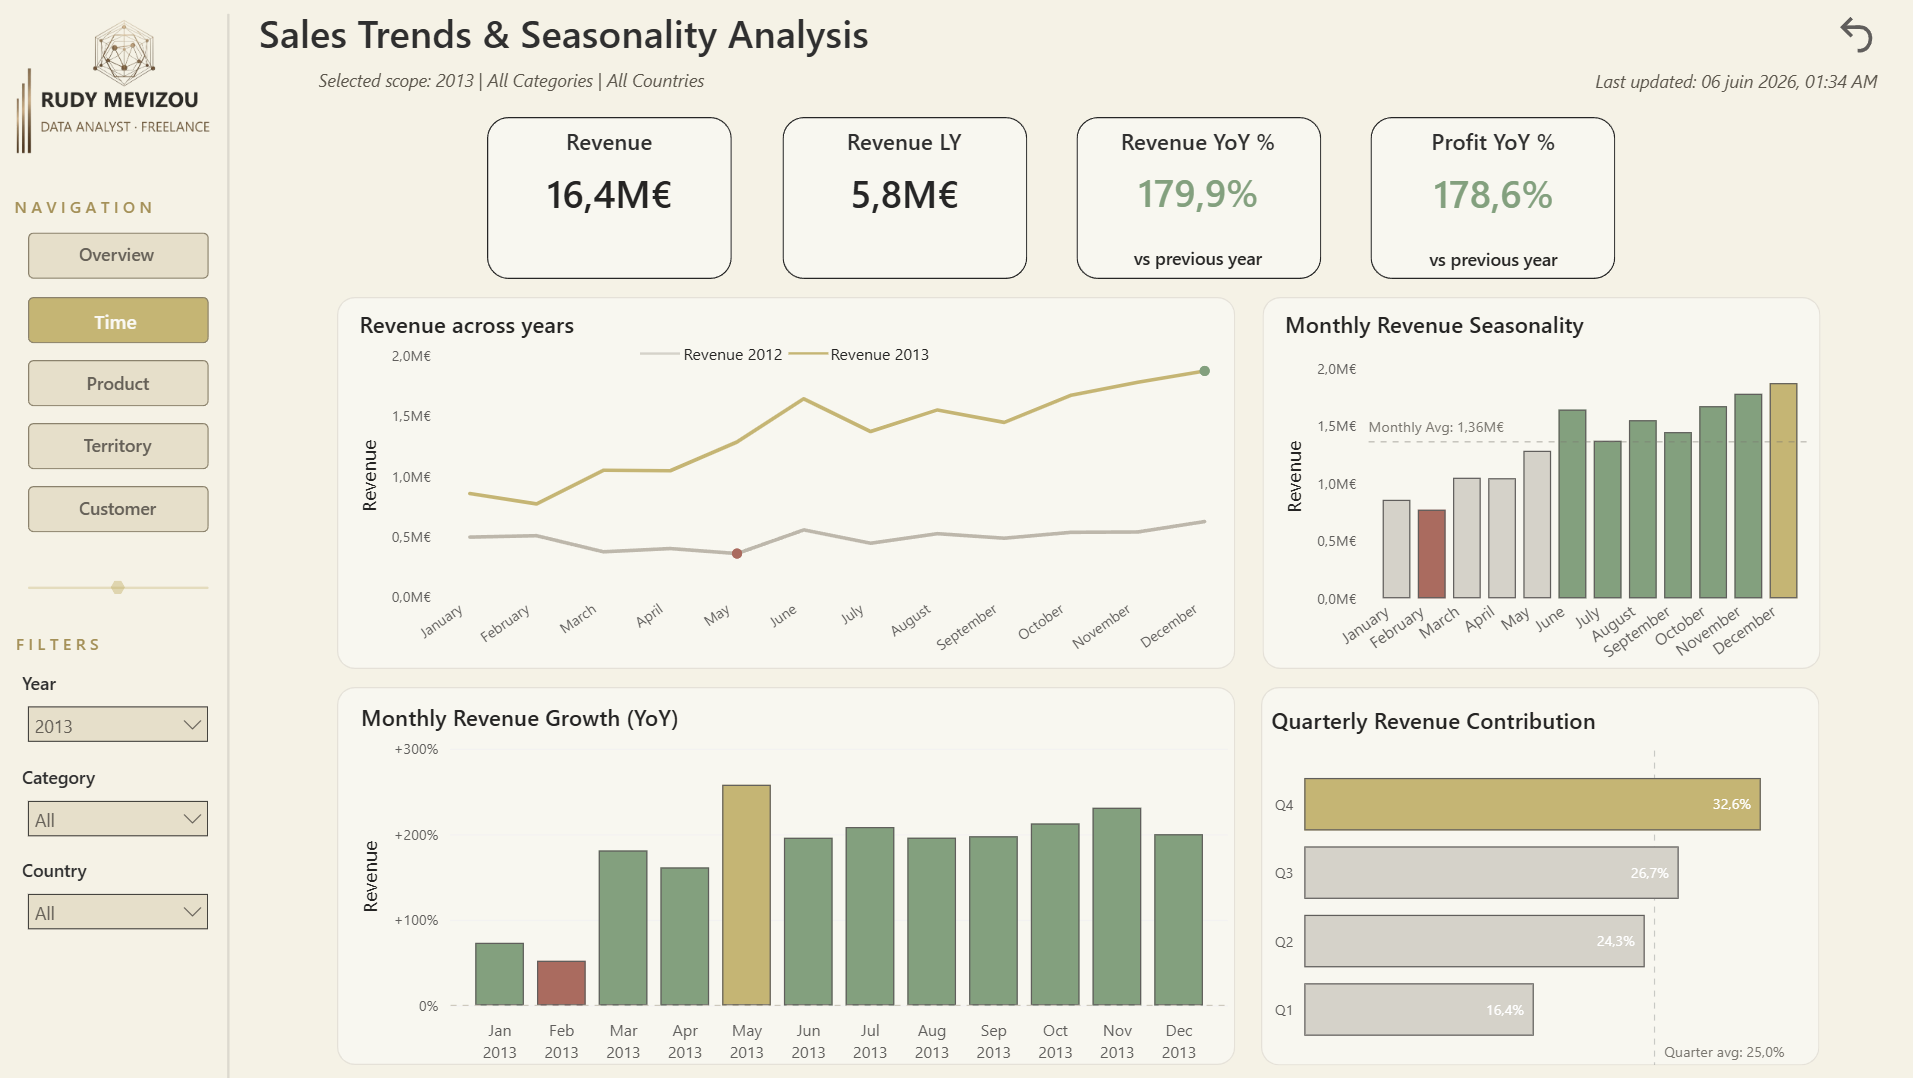

Layout of this report page (visuals, bound fields, positions):
{"tool":"powerbi","page":{"name":"Sales Trends & Seasonality Analysis","canvas":[1600,900],"ordinal":1},"visuals":[{"type":"textbox","box":[213.3,0,600,56.2],"z":0,"group":"g25"},{"type":"shape","box":[181.4,11.4,21.4,888.6],"z":0,"group":"g24"},{"type":"shape","box":[408,98,204,135],"z":0,"group":"g18"},{"type":"shape","box":[654,98,204,135],"z":0,"group":"g14"},{"type":"shape","box":[899,98,204,135],"z":0,"group":"g5"},{"type":"group","id":"g1","title":"KPI YoY","box":[1144,98,204,135],"z":0,"group":"g22"},{"type":"shape","box":[1144,98,204,135],"z":0,"group":"g1"},{"type":"card","title":"Revenue YoY %","fields":{"Values":["Mesures.Revenue YoY Display"]},"box":[927.2,105,145.1,86.3],"z":0,"group":"g6"},{"type":"card","title":"Profit YoY %","fields":{"Values":["Mesures.Profit YoY Display"]},"box":[1176.1,105.1,139.9,86.6],"z":0,"group":"g8"},{"type":"shape","box":[25,193.6,150.6,38.6],"z":0,"group":"g23"},{"type":"card","fields":{"Values":["Mesures.Revenue LY Status"]},"box":[685.7,202.9,144.3,30],"z":0,"group":"g7"},{"type":"shape","box":[25.3,247.1,150.6,38.6],"z":0,"group":"g20"},{"type":"shape","box":[282,247.5,748.6,310],"z":0,"group":"g21"},{"type":"shape","box":[534,276,33.5,36.8],"z":0,"group":"g12"},{"type":"shape","box":[25.5,299.1,150.6,38.6],"z":0,"group":"g15"},{"type":"shape","box":[25.5,351.8,150.6,38.6],"z":0,"group":"g10"},{"type":"group","id":"g2","title":"Customer button","box":[25.4,404.6,150.6,38.6],"z":0,"group":"g19"},{"type":"shape","box":[25.4,404.6,150.6,38.6],"z":0,"group":"g2"},{"type":"shape","box":[25,483.6,150.5,12.2],"z":0,"group":"g11"},{"type":"shape","box":[282.9,572,748.6,315],"z":0,"group":"g4"},{"type":"group","id":"g3","title":"Quarterly contribution","box":[1053,572,465.3,320],"z":0,"group":"g13"},{"type":"shape","box":[1053,572,465.3,315.3],"z":0,"group":"g3"},{"type":"slicer","title":"Country","fields":{"Values":["Territory.Country"]},"box":[16,714.6,170,62],"z":0,"group":"g16"},{"type":"shape","box":[1053,247.5,465,310],"z":250,"group":"g9"},{"type":"columnChart","title":"Monthly Revenue Seasonality","fields":{"Y":["Mesures.Average Revenue by Month"],"Category":["Date.MonthName"]},"box":[1066.8,256.9,448.8,313.8],"z":500,"group":"g9"},{"type":"group","id":"g4","title":"Revenue growth","box":[282.9,572,748.6,320.1],"z":500,"group":"g13"},{"type":"card","fields":{"Values":["Mesures.Last Updated"]},"box":[1321.2,56.2,253.8,27],"z":1000,"group":"g25"},{"type":"group","id":"g5","title":"KPI YoY","box":[899,98,204,135],"z":1000,"group":"g22"},{"type":"group","id":"g6","title":"Groupe 6","box":[927.2,105,145.1,127.8],"z":1000,"group":"g5"},{"type":"card","title":"Revenue","fields":{"Values":["Mesures.Revenue"]},"box":[435.7,105.1,148.6,86.6],"z":1000,"group":"g18"},{"type":"group","id":"g7","title":"Groupe 9","box":[685.7,105.1,144.3,127.8],"z":1000,"group":"g14"},{"type":"card","title":"Revenue LY","fields":{"Values":["Mesures.Revenue LY Display - KPI"]},"box":[685.9,105.1,140.2,87],"z":1000,"group":"g7"},{"type":"group","id":"g8","title":"Groupe 3","box":[1174,105.1,144,127.9],"z":1000,"group":"g1"},{"type":"textbox","box":[63,195.6,83.2,34.6],"z":1000,"group":"g23"},{"type":"card","fields":{"Values":["Mesures.Revenue YoY Status"]},"box":[927.7,202.7,144,30.1],"z":1000,"group":"g6"},{"type":"card","fields":{"Values":["Mesures.Profit YoY Status"]},"box":[1174,202.8,144,30.2],"z":1000,"group":"g8"},{"type":"group","id":"g9","title":"Monthly seasonality","box":[1053,247.5,465,323.2],"z":1000,"group":"g17"},{"type":"textbox","box":[75,250.4,51.2,32],"z":1000,"group":"g20"},{"type":"lineChart","title":"Revenue across years","fields":{"Category":["Date.MonthName"],"Y":["Mesures.Revenue 2012","Mesures.Revenue 2012 Min","Mesures.Revenue 2013","Mesures.Revenue 2013 Max"]},"box":[295.8,256.9,736.2,307.5],"z":1000,"group":"g21"},{"type":"shape","box":[658.2,276.5,33.2,36.5],"z":1000,"group":"g12"},{"type":"textbox","box":[68.8,302.3,63.9,32.2],"z":1000,"group":"g15"},{"type":"group","id":"g10","title":"Territory button","box":[25.5,351.8,150.6,38.6],"z":1000,"group":"g19"},{"type":"textbox","box":[67.3,354.8,67,32.6],"z":1000,"group":"g10"},{"type":"textbox","box":[62.6,406.5,76.2,32.5],"z":1000,"group":"g2"},{"type":"group","id":"g11","title":"Separator Line","box":[25,483.6,150.5,12.2],"z":1000,"group":"g24"},{"type":"shape","box":[94.1,483.6,12.2,11.3],"z":1000,"group":"g11"},{"type":"columnChart","title":"Monthly Revenue Growth (YoY)","fields":{"Category":["Date.Month Year"],"Y":["Mesures.Revenue YoY %"]},"box":[298.1,584.6,732.5,307.5],"z":1000,"group":"g4"},{"type":"clusteredBarChart","title":"Quarterly Revenue Contribution","fields":{"Category":["Date.QuarterLabel"],"Y":["Mesures.Revenue Share Quarter"]},"box":[1056.7,587,456.2,305],"z":1000,"group":"g3"},{"type":"slicer","title":"Category","fields":{"Values":["Product.ProductCategory"]},"box":[16,637.2,170,62],"z":1000,"group":"g16"},{"type":"group","id":"g12","title":"Legend","box":[534,276,246.9,42],"z":1500,"group":"g21"},{"type":"group","id":"g13","title":"05 - Growth & Quarterly","box":[282.9,572,1235.5,320.1],"z":1750},{"type":"group","id":"g14","title":"KPI Revenue LY","box":[654,98,204,135],"z":2000,"group":"g22"},{"type":"textbox","box":[688.2,279.1,92.6,38.8],"z":2000,"group":"g12"},{"type":"group","id":"g15","title":"Product button","box":[25.5,299.1,150.6,38.6],"z":2000,"group":"g19"},{"type":"group","id":"g16","title":"Filters label","box":[10.5,520.8,175.5,255.8],"z":2000,"group":"g24"},{"type":"slicer","title":"Year","fields":{"Values":["Date.CalendarYear Hiérarchie.CalendarYear"]},"box":[16,558.1,170,62],"z":2000,"group":"g16"},{"type":"group","id":"g17","title":"04 - Trend & Seasonality","box":[282,247.5,1236,323.2],"z":2250},{"type":"actionButton","box":[1528.7,8.8,50,40],"z":3000,"group":"g25"},{"type":"group","id":"g18","title":"KPI Revenue","box":[408,98,204,135],"z":3000,"group":"g22"},{"type":"group","id":"g19","title":"Navigation label","box":[8.9,156.9,167.2,286.2],"z":3000,"group":"g24"},{"type":"group","id":"g20","title":"Time button","box":[25.3,247.1,150.6,38.6],"z":3000,"group":"g19"},{"type":"group","id":"g21","title":"Revenue trend","box":[282,247.5,750,316.9],"z":3000,"group":"g17"},{"type":"textbox","box":[565.2,279.2,94.1,38.5],"z":3000,"group":"g12"},{"type":"textbox","title":"Filters text","box":[10.5,520.8,136.4,36.4],"z":3000,"group":"g16"},{"type":"image","title":"Logo","box":[0,7.1,201.7,136.7],"z":4000,"group":"g24"},{"type":"card","fields":{"Values":["Mesures.Selection Summary"]},"box":[213,55,430,28.2],"z":4000,"group":"g25"},{"type":"group","id":"g22","title":"03 - KPI","box":[408,98,940,135],"z":4000},{"type":"group","id":"g23","title":"Overview button","box":[25,193.6,150.6,38.6],"z":4000,"group":"g19"},{"type":"group","id":"g24","title":"02 - Sidebar","box":[0,7.1,202.9,892.9],"z":5000},{"type":"textbox","title":"Navigation text","box":[8.9,156.9,145.6,36],"z":5000,"group":"g19"},{"type":"group","id":"g25","title":"01 - Header","box":[213,0,1365.7,83.2],"z":6000}]}

Visuals, with their boxes in screenshot pixels (x1, y1, x2, y2), scaled from the page's 1600x900 canvas onto the 1913x1078 screenshot:
textbox: bbox=(255, 0, 972, 67)
shape: bbox=(217, 14, 242, 1077)
shape: bbox=(488, 117, 732, 279)
shape: bbox=(782, 117, 1026, 279)
shape: bbox=(1075, 117, 1319, 279)
"KPI YoY" group: bbox=(1368, 117, 1612, 279)
shape: bbox=(1368, 117, 1612, 279)
"Revenue YoY %" card: bbox=(1109, 126, 1282, 229)
"Profit YoY %" card: bbox=(1406, 126, 1573, 230)
shape: bbox=(30, 232, 210, 278)
card - Mesures.Revenue LY Status: bbox=(820, 243, 992, 279)
shape: bbox=(30, 296, 210, 342)
shape: bbox=(337, 296, 1232, 668)
shape: bbox=(638, 331, 679, 375)
shape: bbox=(30, 358, 211, 404)
shape: bbox=(30, 421, 211, 468)
"Customer button" group: bbox=(30, 485, 210, 531)
shape: bbox=(30, 485, 210, 531)
shape: bbox=(30, 579, 210, 594)
shape: bbox=(338, 685, 1233, 1062)
"Quarterly contribution" group: bbox=(1259, 685, 1815, 1068)
shape: bbox=(1259, 685, 1815, 1063)
"Country" slicer: bbox=(19, 856, 222, 930)
shape: bbox=(1259, 296, 1815, 668)
"Monthly Revenue Seasonality" columnChart: bbox=(1275, 308, 1812, 684)
"Revenue growth" group: bbox=(338, 685, 1233, 1069)
card - Mesures.Last Updated: bbox=(1580, 67, 1883, 100)
"KPI YoY" group: bbox=(1075, 117, 1319, 279)
"Groupe 6" group: bbox=(1109, 126, 1282, 279)
"Revenue" card: bbox=(521, 126, 699, 230)
"Groupe 9" group: bbox=(820, 126, 992, 279)
"Revenue LY" card: bbox=(820, 126, 988, 230)
"Groupe 3" group: bbox=(1404, 126, 1576, 279)
textbox: bbox=(75, 234, 175, 276)
card - Mesures.Revenue YoY Status: bbox=(1109, 243, 1281, 279)
card - Mesures.Profit YoY Status: bbox=(1404, 243, 1576, 279)
"Monthly seasonality" group: bbox=(1259, 296, 1815, 684)
textbox: bbox=(90, 300, 151, 338)
"Revenue across years" lineChart: bbox=(354, 308, 1234, 676)
shape: bbox=(787, 331, 827, 375)
textbox: bbox=(82, 362, 159, 401)
"Territory button" group: bbox=(30, 421, 211, 468)
textbox: bbox=(80, 425, 161, 464)
textbox: bbox=(75, 487, 166, 526)
"Separator Line" group: bbox=(30, 579, 210, 594)
shape: bbox=(113, 579, 127, 593)
"Monthly Revenue Growth (YoY)" columnChart: bbox=(356, 700, 1232, 1069)
"Quarterly Revenue Contribution" clusteredBarChart: bbox=(1263, 703, 1809, 1068)
"Category" slicer: bbox=(19, 763, 222, 837)
"Legend" group: bbox=(638, 331, 934, 381)
"05 - Growth & Quarterly" group: bbox=(338, 685, 1815, 1069)
"KPI Revenue LY" group: bbox=(782, 117, 1026, 279)
textbox: bbox=(823, 334, 934, 381)
"Product button" group: bbox=(30, 358, 211, 404)
"Filters label" group: bbox=(13, 624, 222, 930)
"Year" slicer: bbox=(19, 668, 222, 743)
"04 - Trend & Seasonality" group: bbox=(337, 296, 1815, 684)
actionButton: bbox=(1828, 11, 1888, 58)
"KPI Revenue" group: bbox=(488, 117, 732, 279)
"Navigation label" group: bbox=(11, 188, 211, 531)
"Time button" group: bbox=(30, 296, 210, 342)
"Revenue trend" group: bbox=(337, 296, 1234, 676)
textbox: bbox=(676, 334, 788, 381)
"Filters text" textbox: bbox=(13, 624, 176, 667)
"Logo" image: bbox=(0, 9, 241, 172)
card - Mesures.Selection Summary: bbox=(255, 66, 769, 100)
"03 - KPI" group: bbox=(488, 117, 1612, 279)
"Overview button" group: bbox=(30, 232, 210, 278)
"02 - Sidebar" group: bbox=(0, 9, 243, 1077)
"Navigation text" textbox: bbox=(11, 188, 185, 231)
"01 - Header" group: bbox=(255, 0, 1888, 100)
